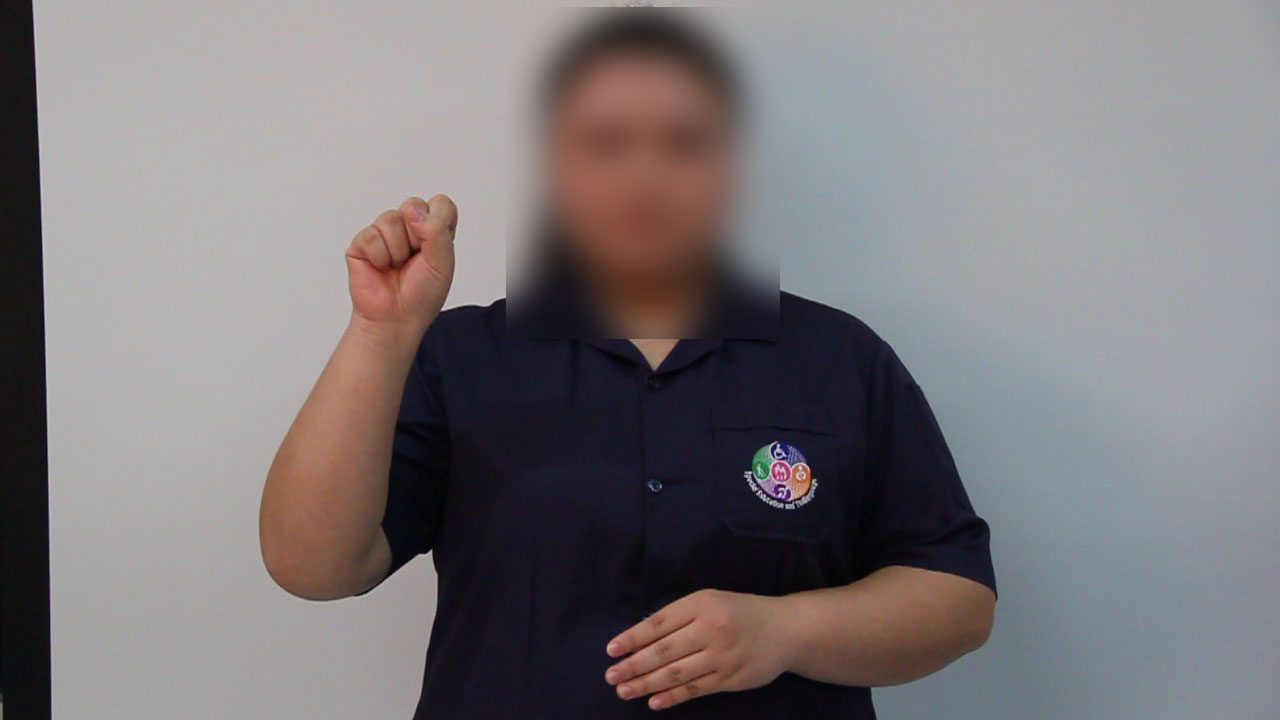sor: (320, 185, 471, 337)
